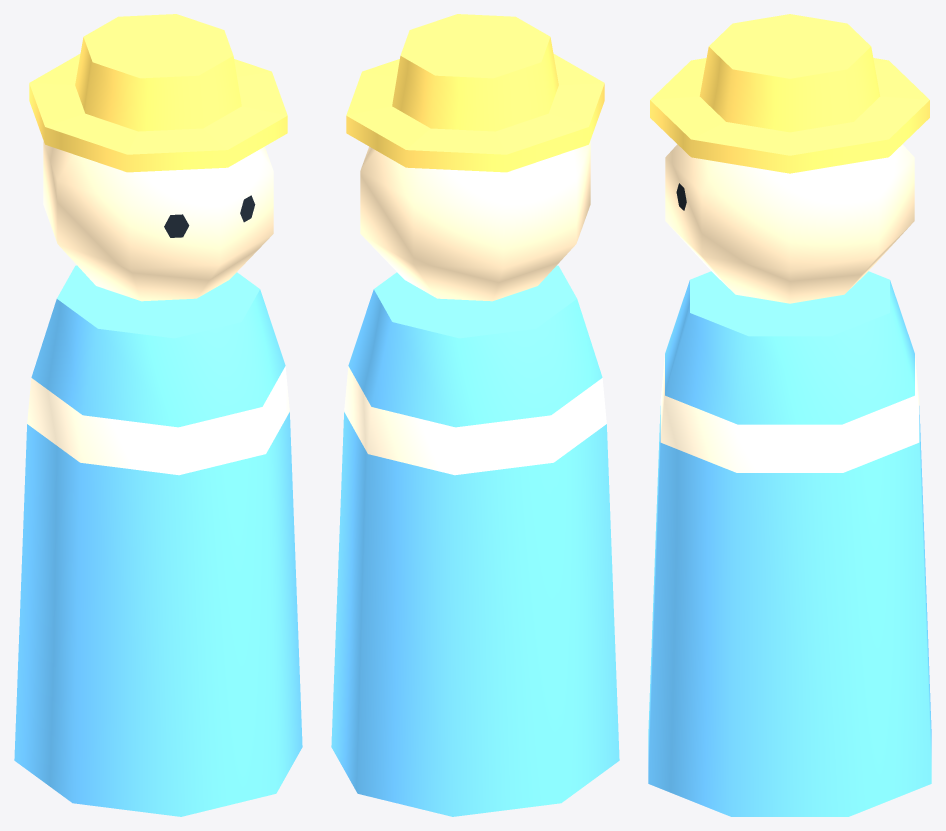
The model's file is block-folk-b.glb.
3 renders of one model, left to right at view 1: azimuth 30°, elevation 25°; view 2: azimuth 150°, elevation 25°; view 3: azimuth 270°, elevation 25°, orthographic.
Parts seen in each view (by area): view 1: block-folk-b; view 2: block-folk-b; view 3: block-folk-b.
Boxes of the visible parts, x1,y1,x2,y2 form: block-folk-b: (14, 14, 302, 816); block-folk-b: (331, 14, 619, 816); block-folk-b: (648, 14, 931, 816).
Bounding box in the file's own units: 0.68 × 2 × 0.72.
